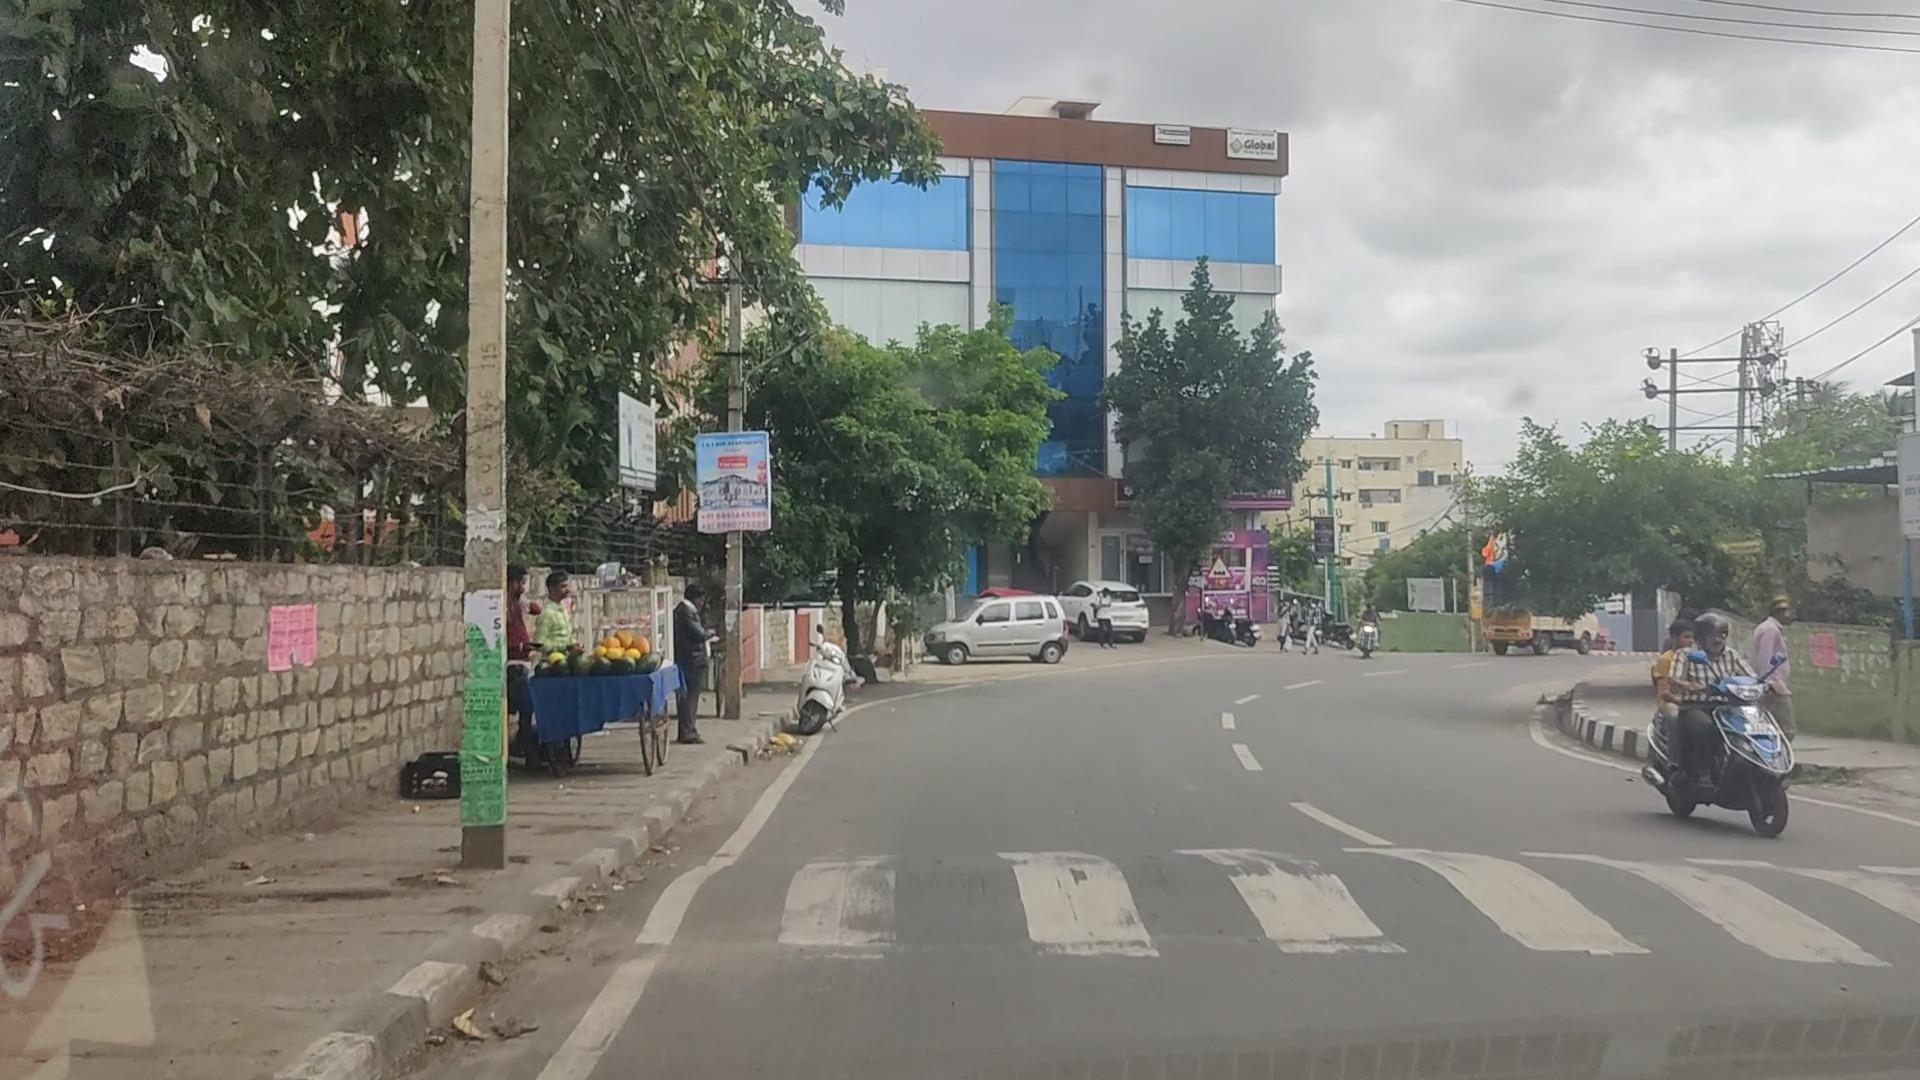LMV: (1651, 611, 1807, 836)
SpeedBump: (728, 818, 1920, 978)
